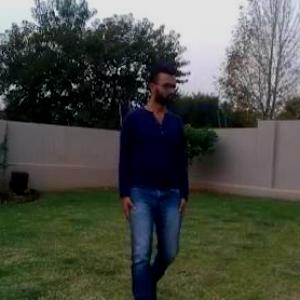follow: (111, 45, 199, 299)
